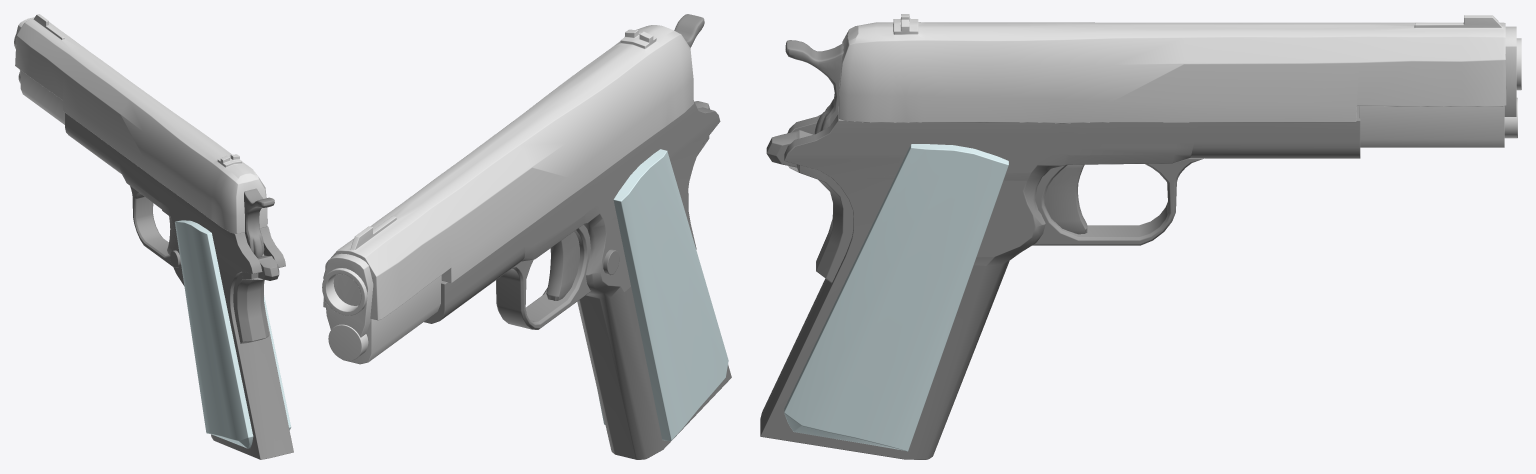
3 renders of one model, left to right at view 1: azimuth 30°, elevation 25°; view 2: azimuth 150°, elevation 25°; view 3: azimuth 270°, elevation 25°, orthographic. The views are drawn at different scales.
Visible parts, largest first — view 1: 1911_R1; view 2: 1911_R1; view 3: 1911_R1.
Part boxes in pixels (<box>): 1911_R1: <box>14,14,293,459</box>; 1911_R1: <box>322,14,731,459</box>; 1911_R1: <box>760,14,1521,459</box>.
Bounding box in the file's own units: 132 × 708 × 1122.
